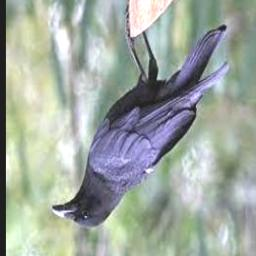Crow: (52, 5, 231, 229)
